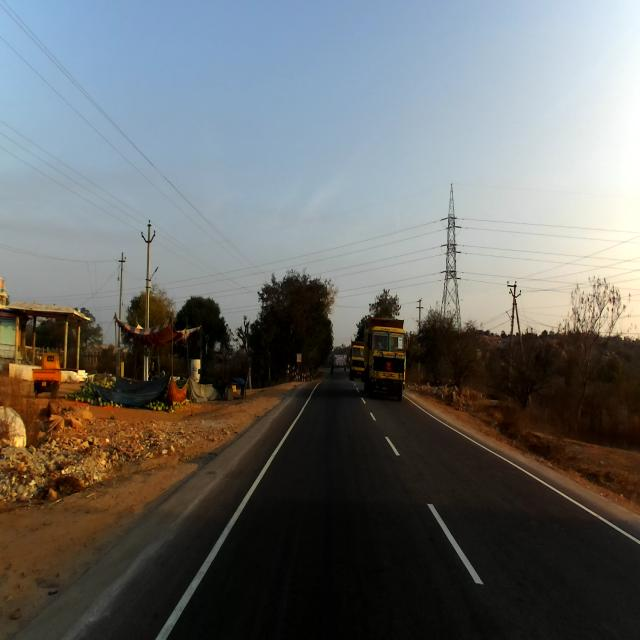truck ahead at: (363, 313, 411, 403)
